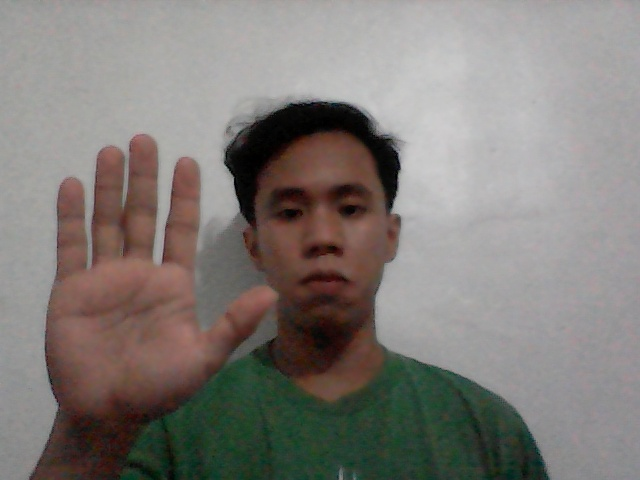Hello: (7, 120, 288, 429)
